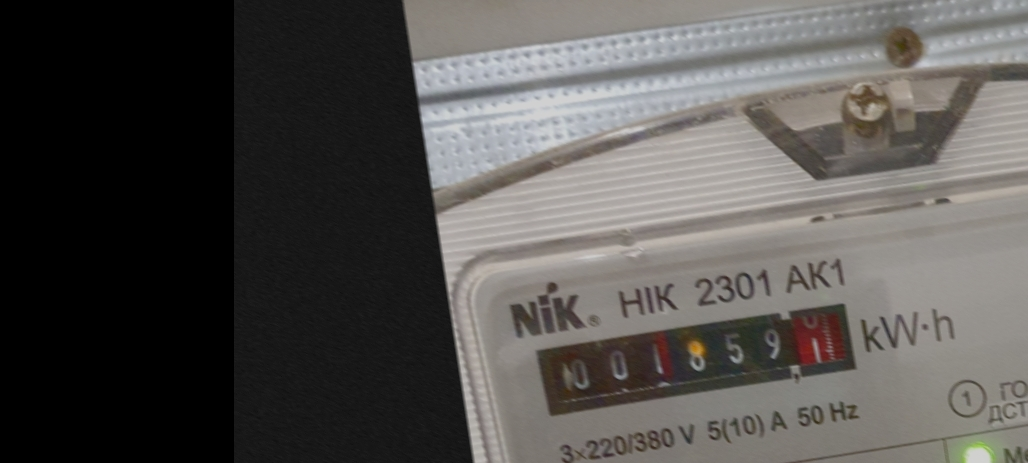0: (569, 355, 593, 393), (607, 347, 632, 383)
1: (651, 340, 667, 377), (809, 333, 826, 365)
5: (723, 329, 748, 367)
8: (685, 337, 710, 374)
9: (762, 325, 786, 362)
screen: (525, 289, 870, 429)
